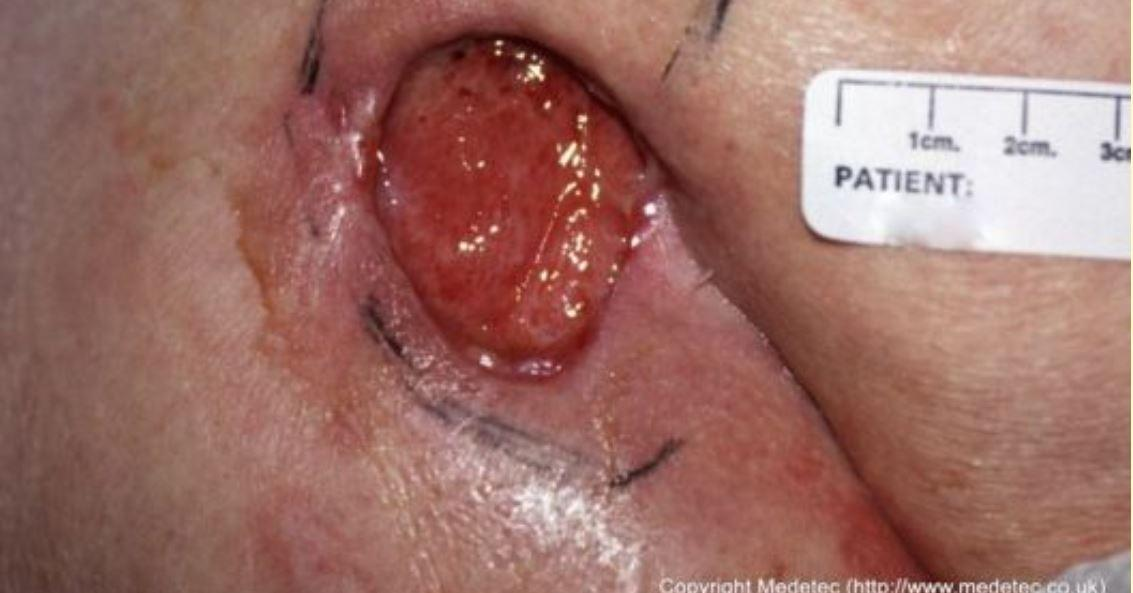Stage3: (340, 6, 739, 409)
